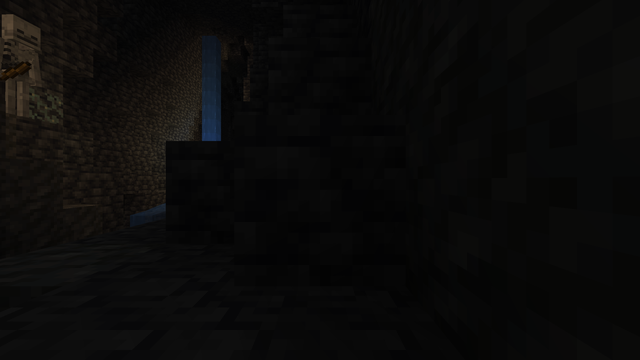squelettes: (0, 13, 44, 118)
